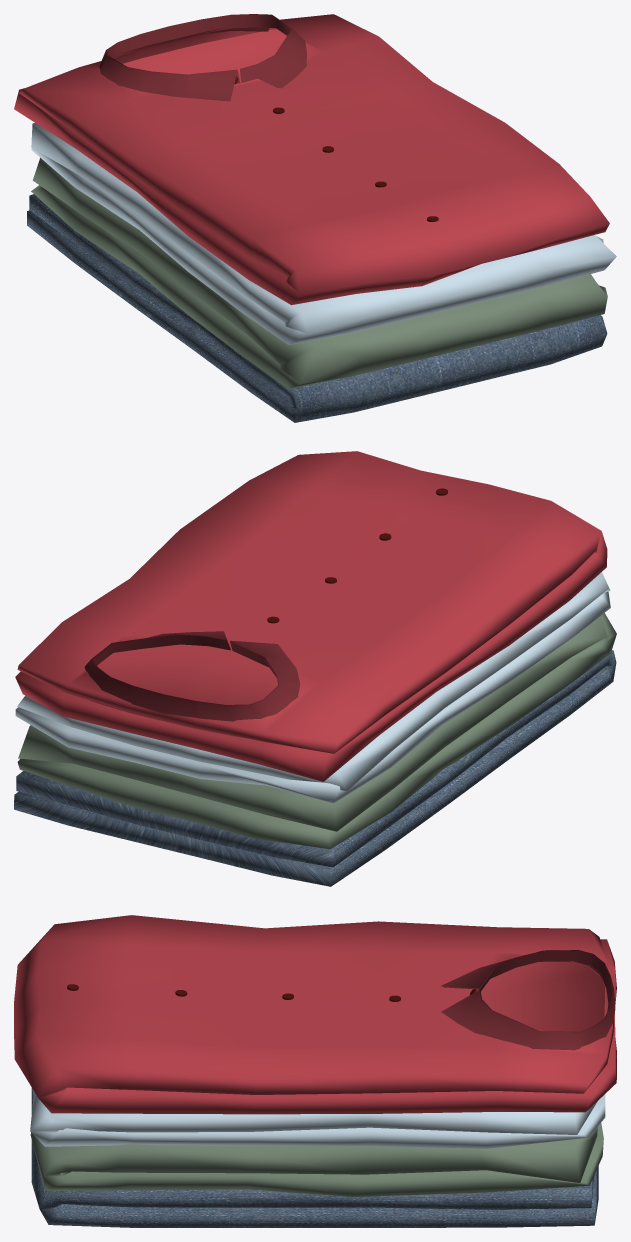
File: Clothes.glb
3 renders of one model, top to bottom at view 1: azimuth 30°, elevation 25°; view 2: azimuth 150°, elevation 25°; view 3: azimuth 270°, elevation 25°, orthographic. The views are drawn at different scales.
Parts seen in each view (by area): view 1: Object_5, Object_4, Object_2, Object_3, Object_6; view 2: Object_5, Object_4, Object_3, Object_2, Object_6; view 3: Object_5, Object_4, Object_3, Object_2, Object_6.
Part boxes in pixels (x1=…): Object_5: x1=14, y1=14, x2=609, y2=304; Object_4: x1=31, y1=158, x2=607, y2=388; Object_2: x1=31, y1=123, x2=616, y2=345; Object_3: x1=27, y1=194, x2=607, y2=422; Object_6: x1=99, y1=14, x2=306, y2=101; Object_5: x1=15, y1=451, x2=607, y2=781; Object_4: x1=17, y1=613, x2=616, y2=848; Object_3: x1=14, y1=650, x2=616, y2=886; Object_2: x1=15, y1=572, x2=610, y2=803; Object_6: x1=84, y1=631, x2=300, y2=721; Object_5: x1=14, y1=915, x2=616, y2=1114; Object_4: x1=30, y1=1122, x2=603, y2=1196; Object_3: x1=31, y1=1088, x2=598, y2=1227; Object_2: x1=30, y1=1089, x2=605, y2=1148; Object_6: x1=440, y1=950, x2=615, y2=1050.
Size of the model in its own units: 26.33 by 12.24 by 40.41.
Materials: 6 (1 with a texture image).
